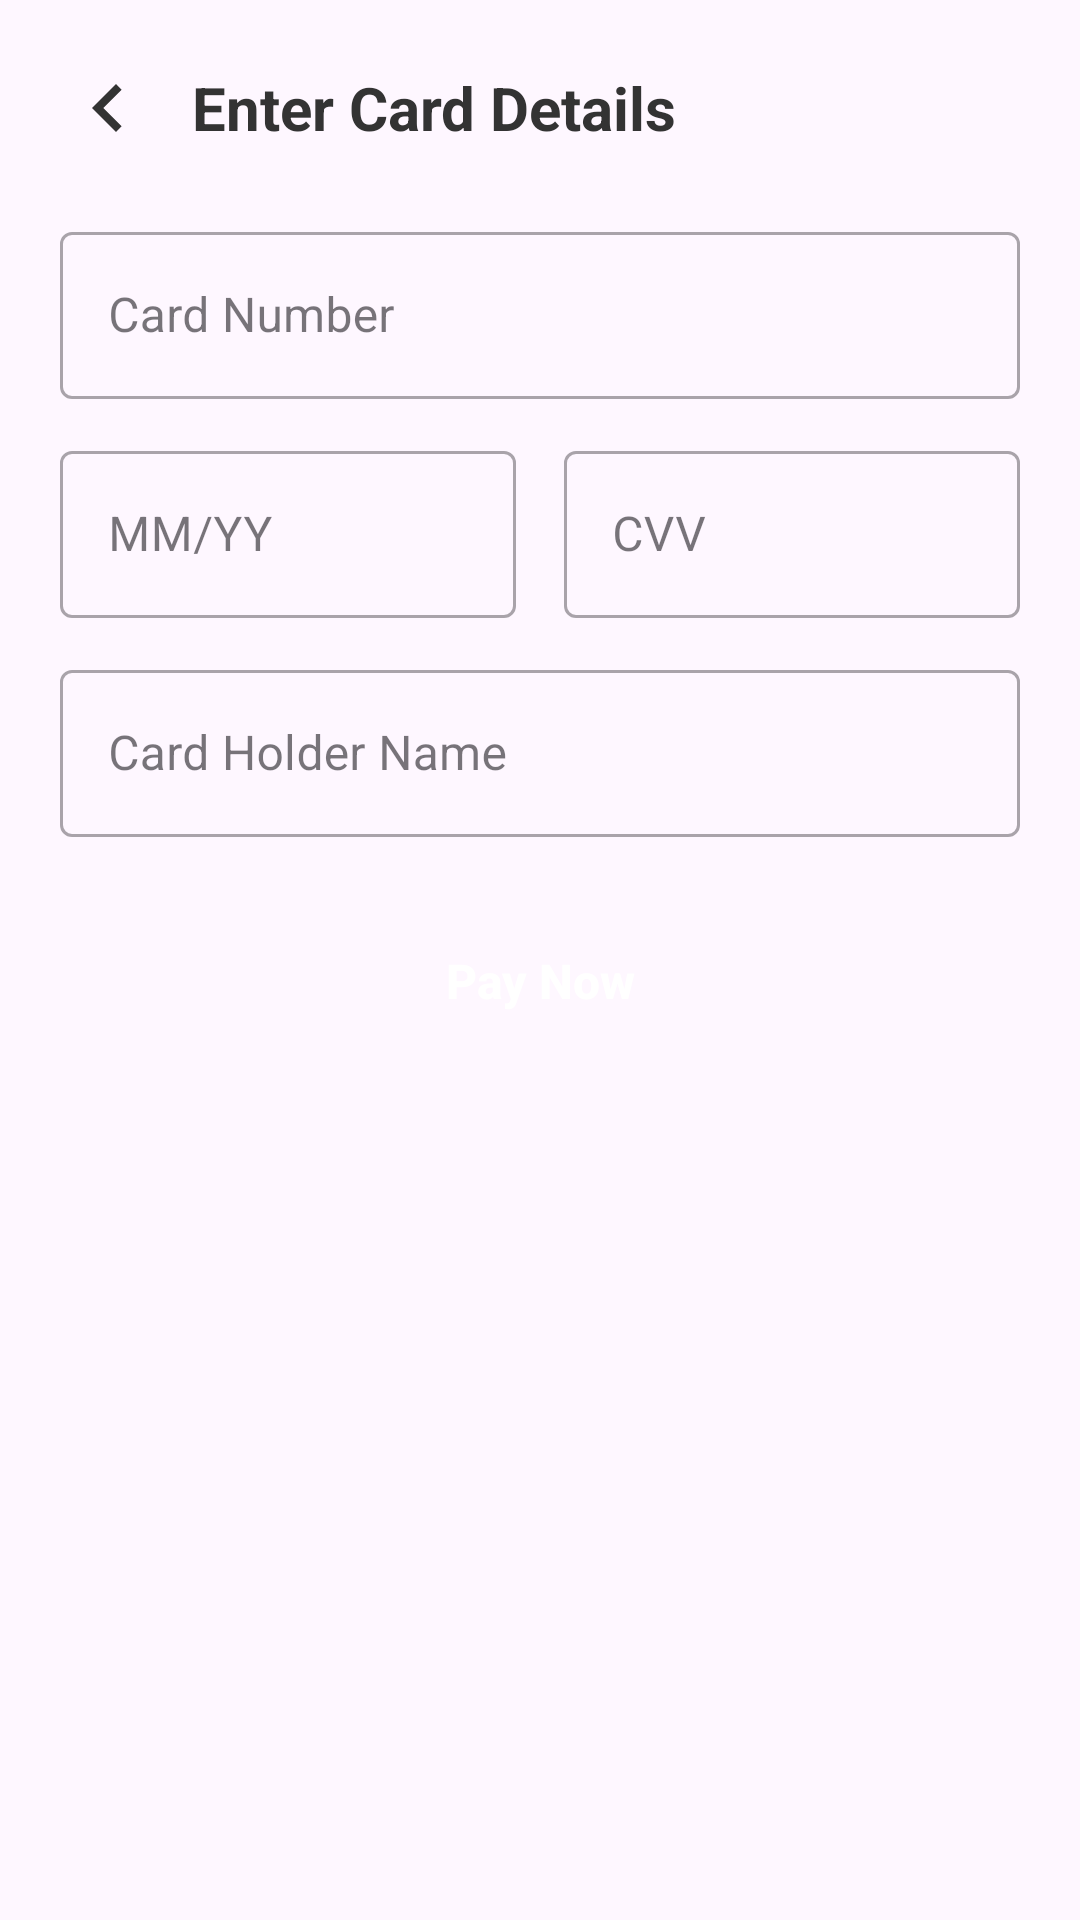

Named icons in this screenshot (1080×1920) and their centers, (x=x, y=y):
back: (x=107, y=108)
